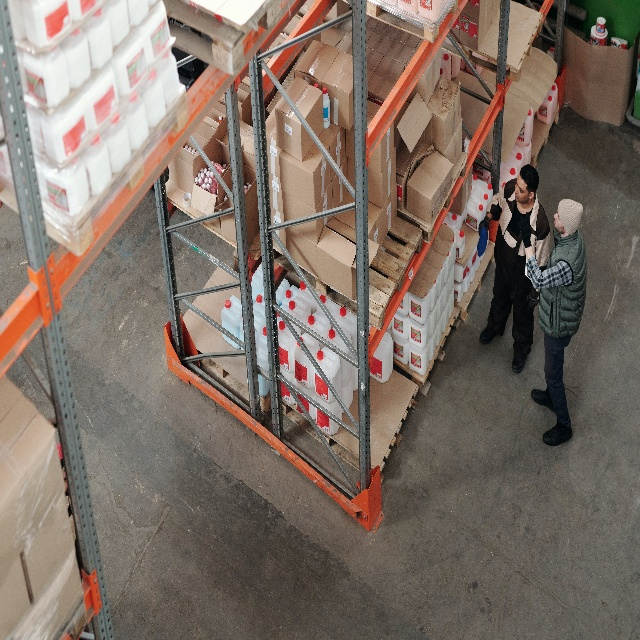Guantes: (519, 211, 532, 248), (525, 287, 540, 313), (478, 216, 490, 239)
